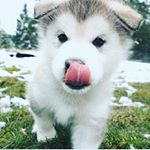puppy: (23, 1, 145, 137)
